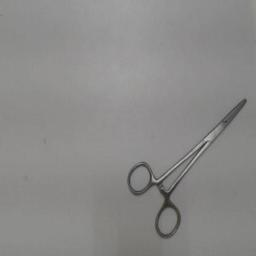Mayo Needle Holder: (122, 90, 254, 244)
